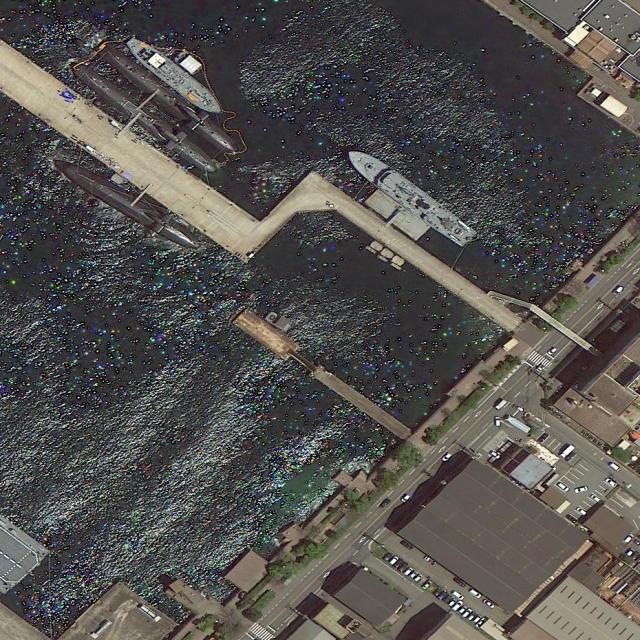Other Warship: (341, 143, 479, 250), (122, 30, 230, 122)
Submarine: (69, 58, 220, 177), (94, 37, 240, 160), (47, 152, 204, 254)
